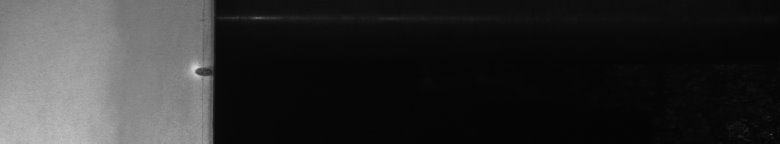hb: (188, 56, 200, 84)
